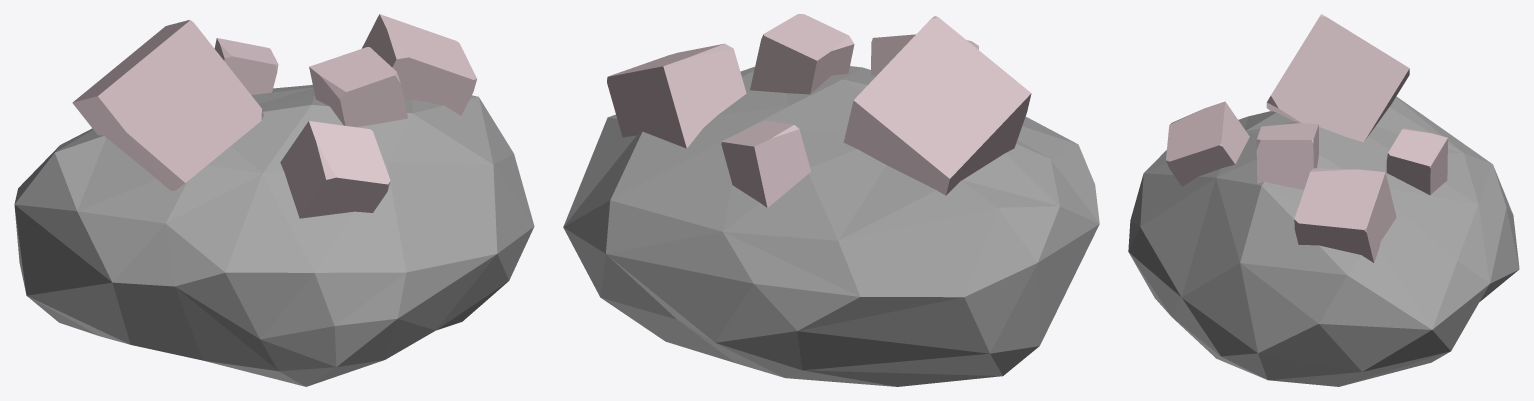
File: thirdmineral.glb
The picture shows the model from 3 angles, left to right: view 1: azimuth 30°, elevation 25°; view 2: azimuth 150°, elevation 25°; view 3: azimuth 270°, elevation 25°; orthographic projection. The views are drawn at different scales.
Parts seen in each view (by area): view 1: Crystal_Cube_white; view 2: Crystal_Cube_white; view 3: Crystal_Cube_white.
Part boxes in pixels (x1=…): Crystal_Cube_white: x1=14, y1=14, x2=534, y2=386; Crystal_Cube_white: x1=563, y1=14, x2=1099, y2=386; Crystal_Cube_white: x1=1128, y1=14, x2=1519, y2=386.
Size of the model in its own units: 1.91 by 1.33 by 1.67.
